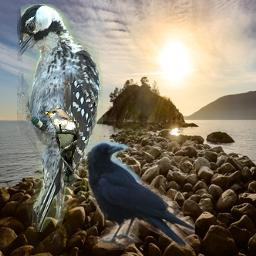Crow: (85, 138, 195, 250)
Cuckoo: (42, 108, 80, 186)
Woodpecker: (17, 4, 103, 232)
